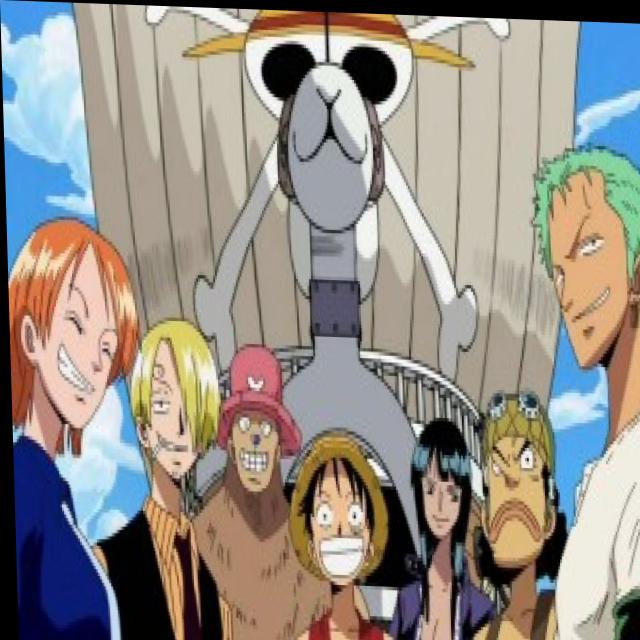Chyopa: (202, 334, 308, 500)
Luffy: (281, 401, 392, 597)
Nami: (5, 205, 142, 452)
NicoRobin: (405, 393, 476, 577)
Sangdi: (124, 311, 222, 490)
Usopp: (460, 381, 569, 588)
Zoro: (526, 136, 640, 371)
